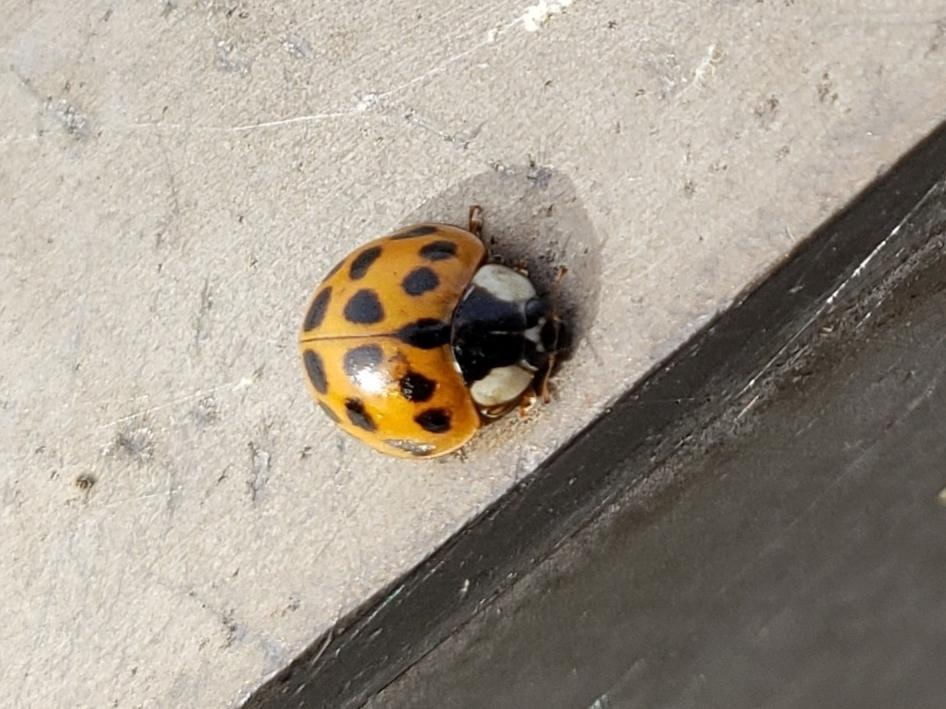ladybug: (301, 205, 579, 463)
